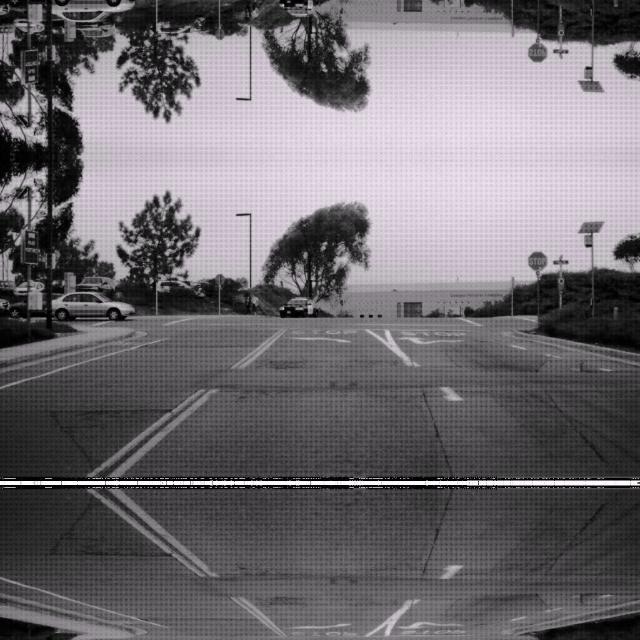stop: (527, 248, 547, 270), (527, 42, 547, 64)
